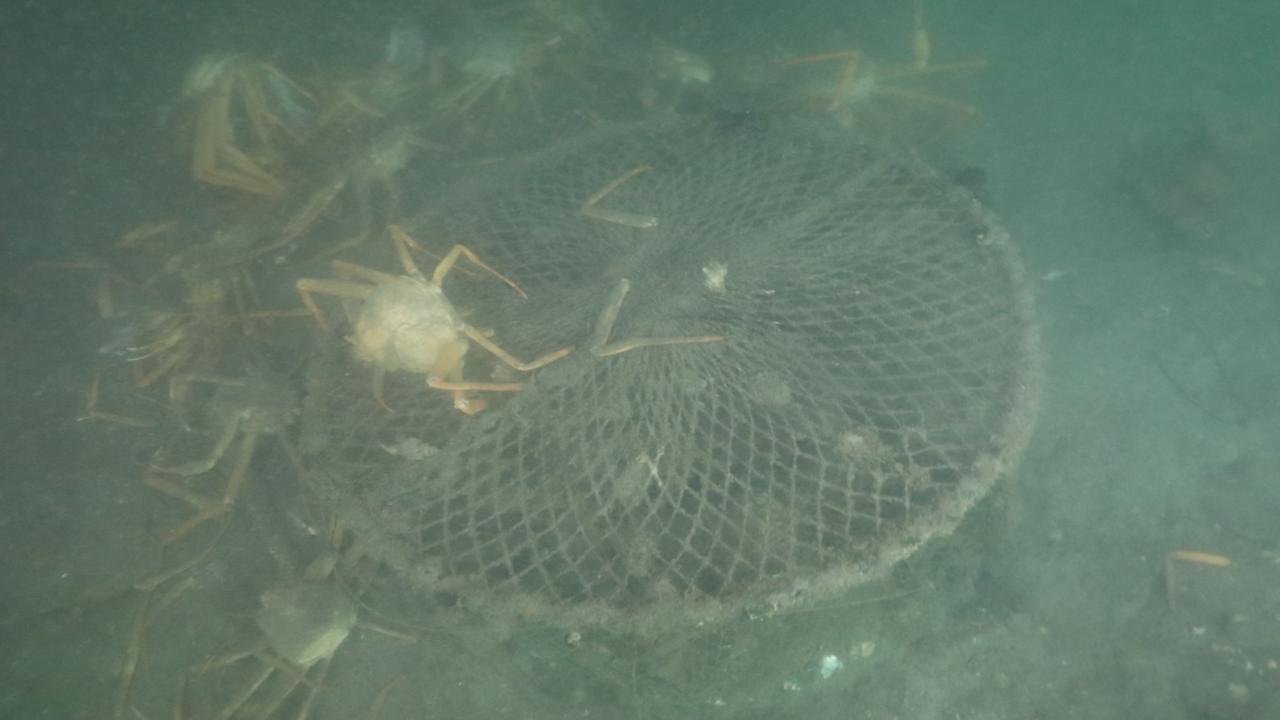circular fish trap: (318, 111, 1048, 643)
